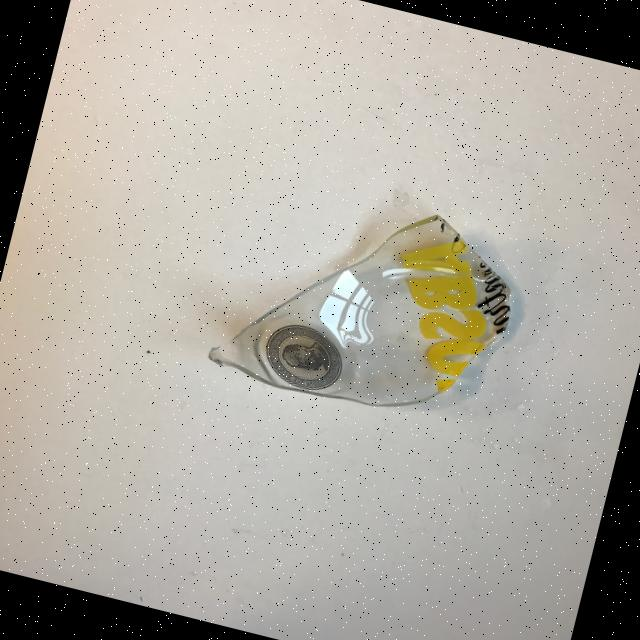glass: (204, 168, 530, 438)
